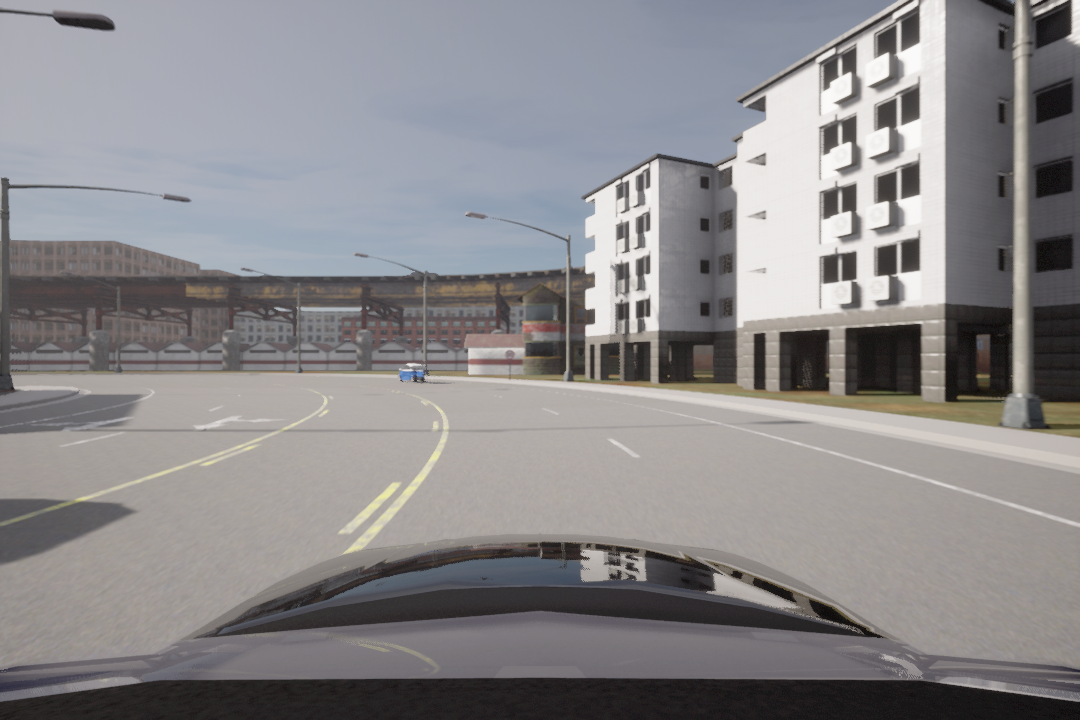RoadSign_forward_right: (189, 412, 280, 434), (32, 416, 137, 434)
